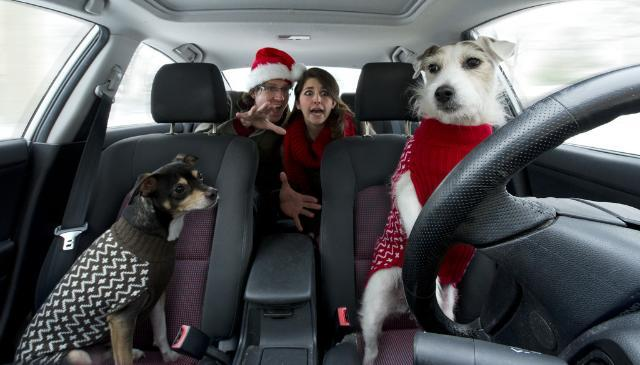SafeDriving: (456, 48, 494, 76)
Seatbelt: (36, 93, 112, 309)
